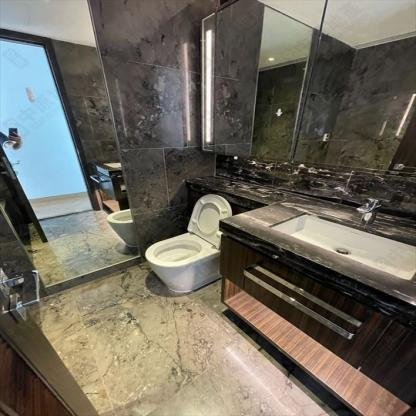Faucet: (350, 192, 387, 226)
Toilet: (145, 193, 233, 293)
Toilet Sink: (271, 214, 415, 281)
